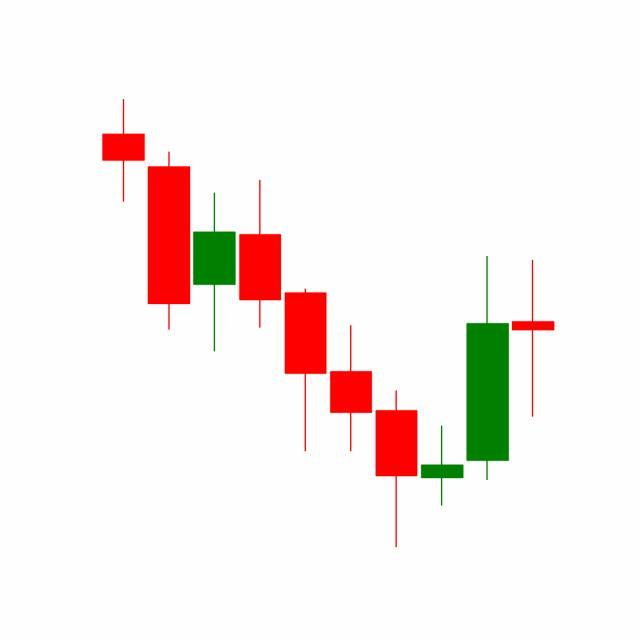Hikkake Pattern: (283, 252, 512, 548)
